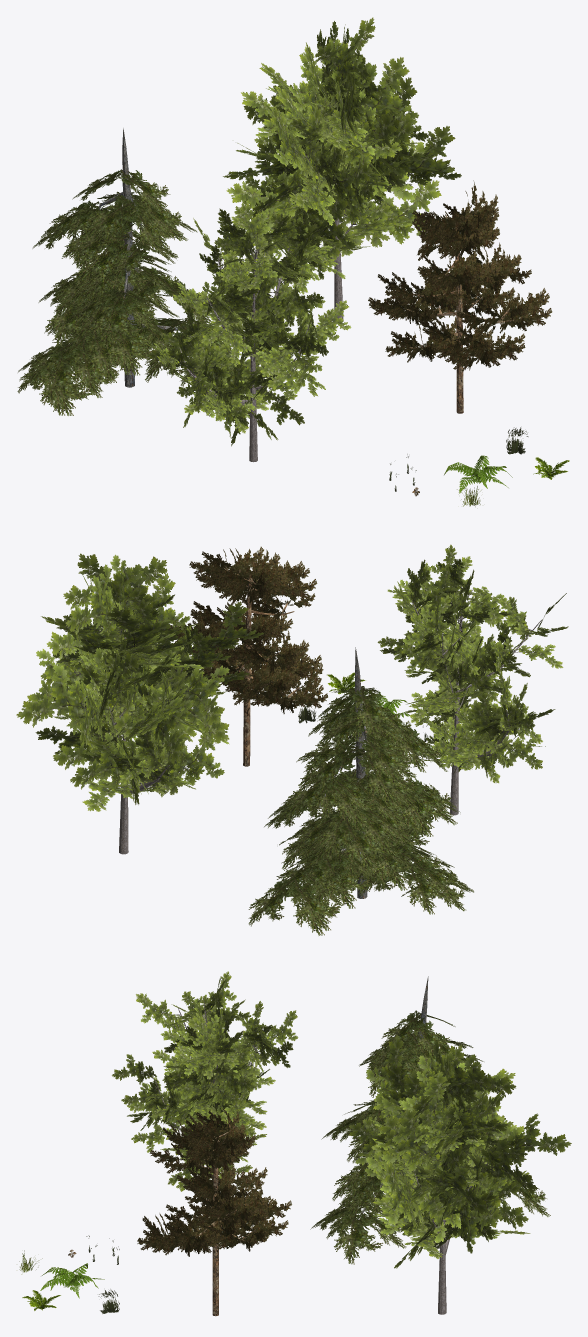
Rendered from low_poly_vegetation_for_games_1k.glb.
3 renders of one model, top to bottom at view 1: azimuth 30°, elevation 25°; view 2: azimuth 150°, elevation 25°; view 3: azimuth 270°, elevation 25°, orthographic. The views are drawn at different scales.
Parts seen in each view (by area): view 1: 2_pngaaa.com-3905963.001_0, 1_pngaaa.com-3905963_0, 5_pngaaa.com-2004453_0, 12_pngaaa.com-2004453.001_0, 1_bark-1_0, 5_bark-2_0, 12_bark-4_0, 3_paporotnik_0; view 2: 2_pngaaa.com-3905963.001_0, 5_pngaaa.com-2004453_0, 1_pngaaa.com-3905963_0, 12_pngaaa.com-2004453.001_0, 12_bark-4_0, 1_bark-1_0, 5_bark-2_0, 2_bark-1.001_0; view 3: 2_pngaaa.com-3905963.001_0, 1_pngaaa.com-3905963_0, 12_pngaaa.com-2004453.001_0, 5_pngaaa.com-2004453_0, 12_bark-4_0, 3_paporotnik_0, 2_bark-1.001_0.
Boxes of the visible parts, x1=… form: 2_pngaaa.com-3905963.001_0: x1=223, y1=17, x2=461, y2=279; 1_pngaaa.com-3905963_0: x1=144, y1=203, x2=351, y2=446; 5_pngaaa.com-2004453_0: x1=17, y1=169, x2=269, y2=416; 12_pngaaa.com-2004453.001_0: x1=368, y1=180, x2=552, y2=371; 1_bark-1_0: x1=178, y1=232, x2=313, y2=462; 5_bark-2_0: x1=39, y1=128, x2=192, y2=387; 12_bark-4_0: x1=405, y1=206, x2=514, y2=413; 3_paporotnik_0: x1=444, y1=455, x2=512, y2=493; 2_pngaaa.com-3905963.001_0: x1=16, y1=553, x2=263, y2=811; 5_pngaaa.com-2004453_0: x1=248, y1=686, x2=473, y2=935; 1_pngaaa.com-3905963_0: x1=377, y1=544, x2=568, y2=783; 12_pngaaa.com-2004453.001_0: x1=168, y1=546, x2=327, y2=713; 12_bark-4_0: x1=224, y1=566, x2=299, y2=766; 1_bark-1_0: x1=412, y1=574, x2=541, y2=815; 5_bark-2_0: x1=299, y1=647, x2=442, y2=899; 2_bark-1.001_0: x1=109, y1=629, x2=183, y2=854; 2_pngaaa.com-3905963.001_0: x1=348, y1=1033, x2=571, y2=1268; 1_pngaaa.com-3905963_0: x1=112, y1=971, x2=298, y2=1191; 12_pngaaa.com-2004453.001_0: x1=137, y1=1108, x2=291, y2=1256; 5_pngaaa.com-2004453_0: x1=310, y1=1010, x2=550, y2=1264; 12_bark-4_0: x1=182, y1=1121, x2=255, y2=1316; 3_paporotnik_0: x1=40, y1=1263, x2=104, y2=1298; 2_bark-1.001_0: x1=413, y1=1146, x2=487, y2=1314.
Size of the model in its own units: 15.46 by 10.34 by 18.76.
Materials: 17 (17 with a texture image).
